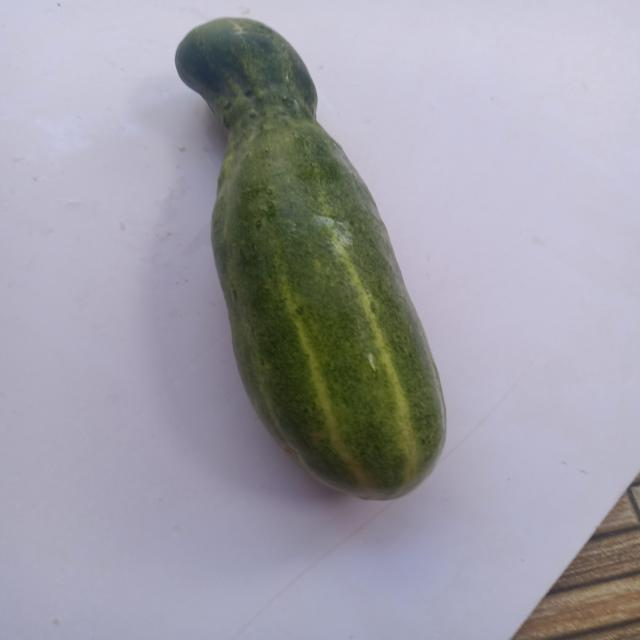Cucumber: (135, 9, 499, 523)
